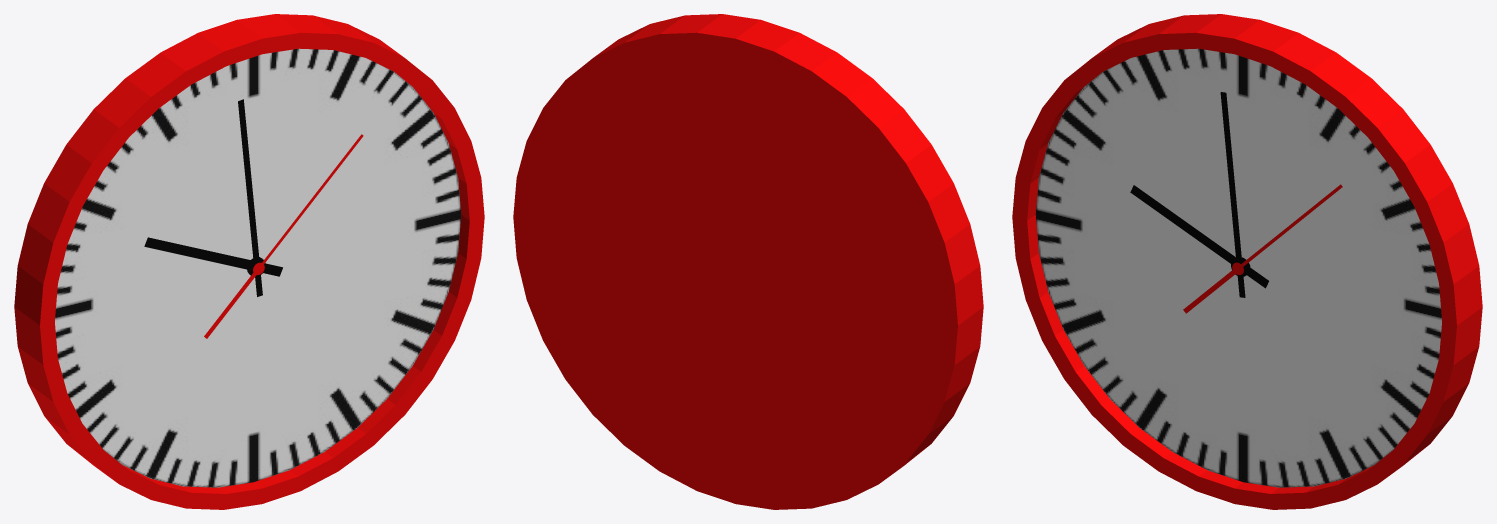
File: sweethome3d-contributions-clock-461.glb
3 renders of one model, left to right at view 1: azimuth 30°, elevation 25°; view 2: azimuth 150°, elevation 25°; view 3: azimuth 330°, elevation 25°, orthographic.
Parts seen in each view (by area): view 1: face, frame, sweethome3d_opening_on_hinge_2, sweethome3d_opening_on_hinge_1, sweethome3d_opening_on_hinge_3; view 2: back, frame; view 3: face, frame, sweethome3d_opening_on_hinge_2, sweethome3d_opening_on_hinge_1, sweethome3d_opening_on_hinge_3.
Part boxes in pixels (<box>): face: <box>55,48,461,487</box>; frame: <box>14,14,484,509</box>; sweethome3d_opening_on_hinge_2: <box>238,99,265,296</box>; sweethome3d_opening_on_hinge_1: <box>144,237,282,276</box>; sweethome3d_opening_on_hinge_3: <box>204,134,363,338</box>; back: <box>513,32,957,509</box>; frame: <box>593,14,983,482</box>; face: <box>1035,48,1441,487</box>; frame: <box>1012,14,1482,509</box>; sweethome3d_opening_on_hinge_2: <box>1220,92,1248,297</box>; sweethome3d_opening_on_hinge_1: <box>1130,185,1268,288</box>; sweethome3d_opening_on_hinge_3: <box>1183,184,1342,313</box>.
Bounding box in the file's own units: 30 × 30 × 3.
6 materials, 1 textured.
